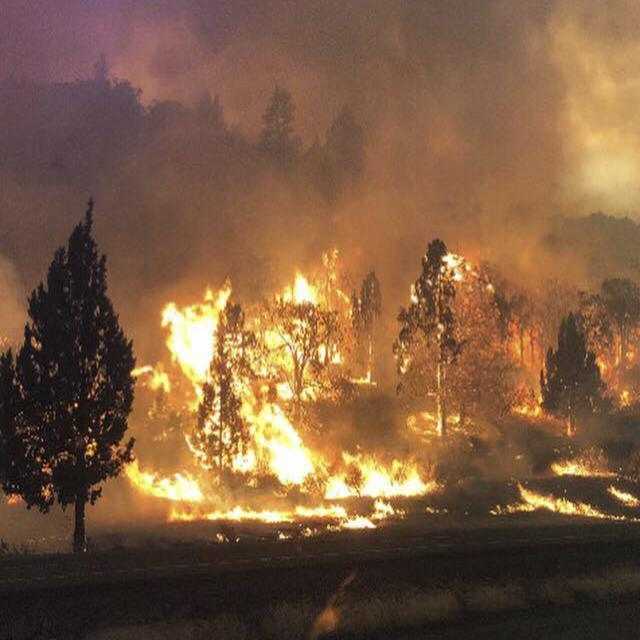Fire: (114, 261, 640, 539)
Smoke: (0, 0, 640, 258)
